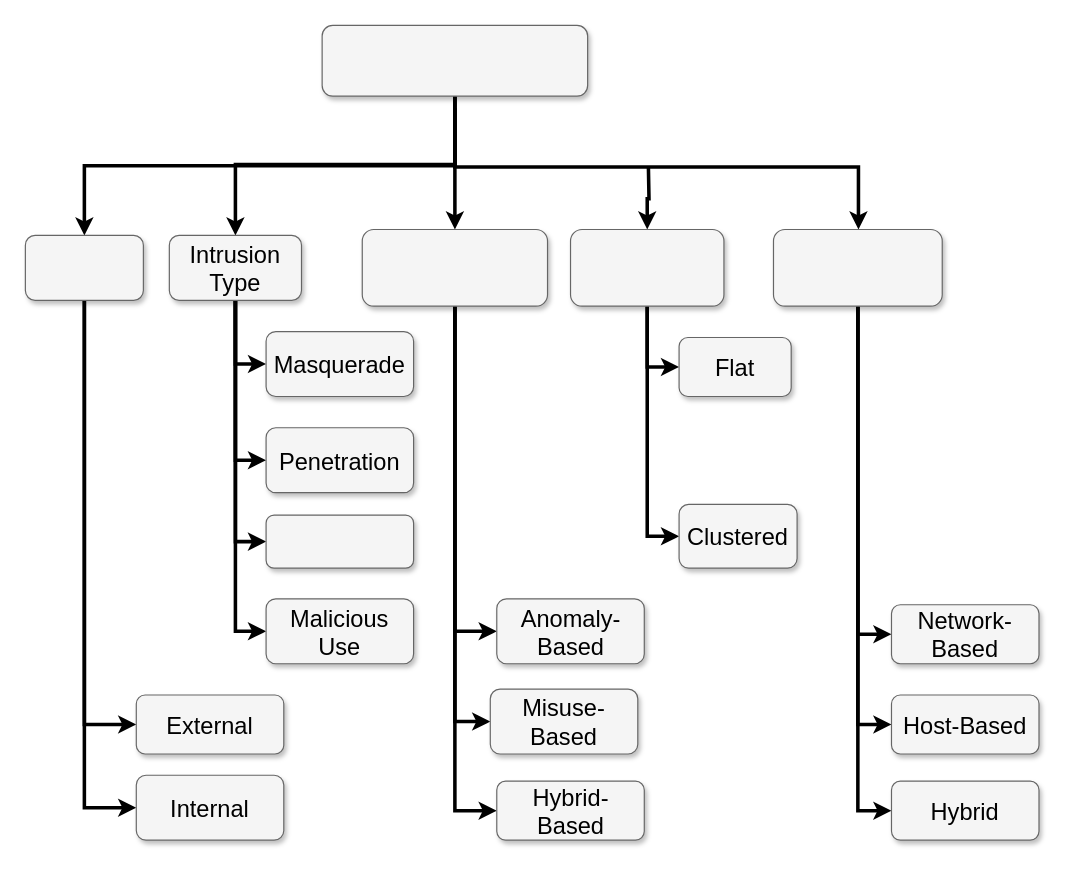
The diagram is 1067 pixels wide and 870 high, and some of its shapes have lost their labels. The shapes that lost their labels are listed below. From the top down, each one's centre as x and y in pixels, then its label:
At pixel 455 61: "Intrusion Detection System".
At pixel 84 269: "Intruder Type".
At pixel 455 269: "Detection Methodology".
At pixel 648 269: "Infrastructure".
At pixel 858 269: "Source of the data".
At pixel 340 542: "DoS".
